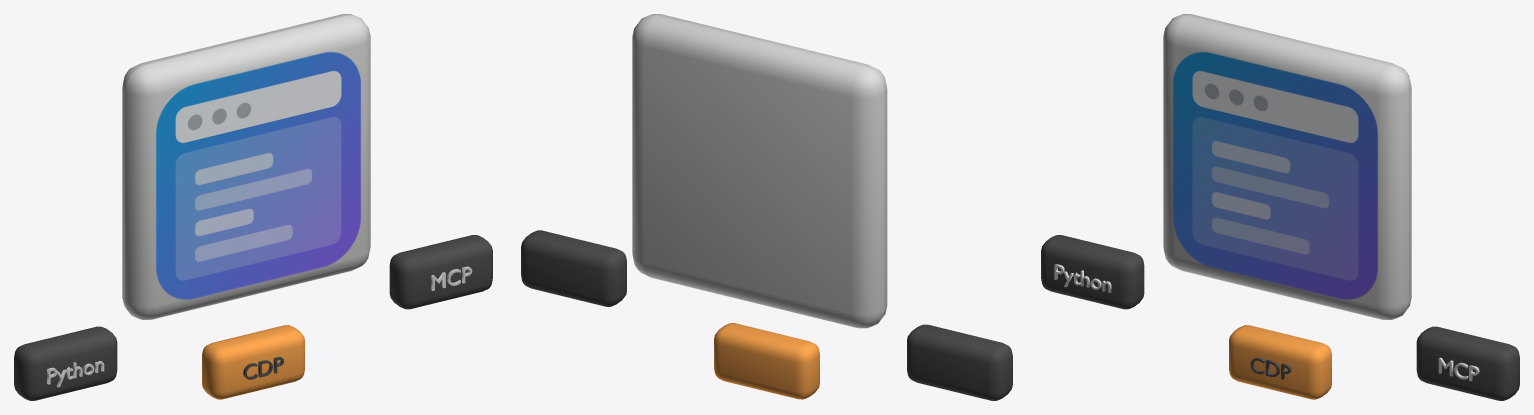
Rendered from openbrowser-scene.glb.
The picture shows the model from 3 angles, left to right: view 1: azimuth 30°, elevation 25°; view 2: azimuth 150°, elevation 25°; view 3: azimuth 330°, elevation 25°; orthographic projection. The views are drawn at different scales.
Parts seen in each view (by area): view 1: CoreLogo, CoreBody, MCPNodeBody, CDPNodeBody, PythonNodeBody, PythonLabel, CDPLabel; view 2: CoreBody, MCPNodeBody, CDPNodeBody, PythonNodeBody; view 3: CoreLogo, CoreBody, MCPNodeBody, CDPNodeBody, PythonNodeBody, PythonLabel, MCPLabel, CDPLabel.
Part boxes in pixels (bbox=[...]): CoreLogo: bbox=[156, 52, 360, 299]; CoreBody: bbox=[122, 14, 370, 319]; MCPNodeBody: bbox=[389, 235, 492, 309]; CDPNodeBody: bbox=[202, 325, 304, 399]; PythonNodeBody: bbox=[14, 326, 117, 400]; PythonLabel: bbox=[47, 361, 104, 387]; CDPLabel: bbox=[243, 356, 284, 379]; CoreBody: bbox=[632, 14, 887, 328]; MCPNodeBody: bbox=[521, 230, 626, 306]; CDPNodeBody: bbox=[714, 323, 819, 399]; PythonNodeBody: bbox=[907, 324, 1012, 400]; CoreLogo: bbox=[1173, 52, 1377, 299]; CoreBody: bbox=[1163, 14, 1411, 319]; MCPNodeBody: bbox=[1416, 326, 1519, 400]; CDPNodeBody: bbox=[1229, 325, 1331, 399]; PythonNodeBody: bbox=[1041, 235, 1144, 309]; PythonLabel: bbox=[1054, 264, 1111, 292]; MCPLabel: bbox=[1438, 357, 1479, 381]; CDPLabel: bbox=[1250, 357, 1291, 379].
Size of the model in its own units: 3.88 by 2.7 by 0.422.
Materials: 4 (1 with a texture image).
